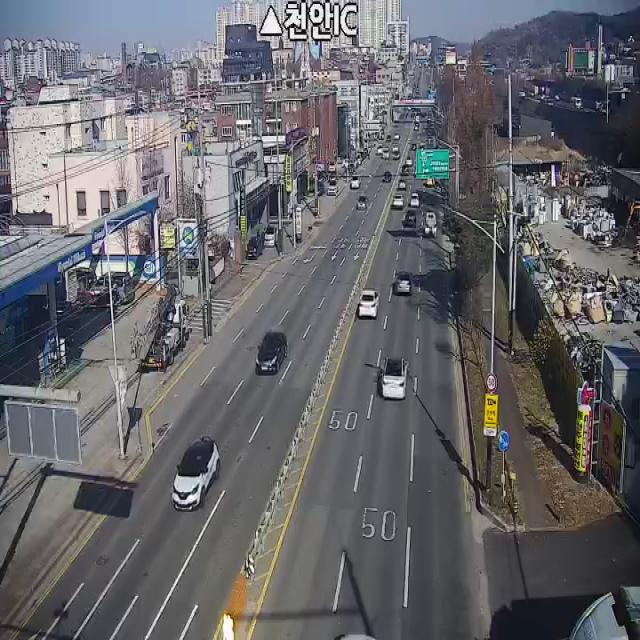Car: (170, 436, 221, 512), (92, 271, 133, 306), (256, 332, 287, 374), (381, 358, 409, 398), (359, 290, 380, 318), (246, 236, 262, 259), (262, 224, 278, 246), (396, 271, 412, 293), (405, 210, 416, 227), (328, 178, 338, 196), (392, 195, 403, 208), (357, 196, 366, 209), (397, 179, 406, 192), (350, 177, 360, 188), (382, 171, 392, 182), (411, 193, 418, 207), (402, 164, 408, 175), (406, 156, 413, 165)
Truck: (138, 288, 190, 372), (424, 211, 437, 236)
